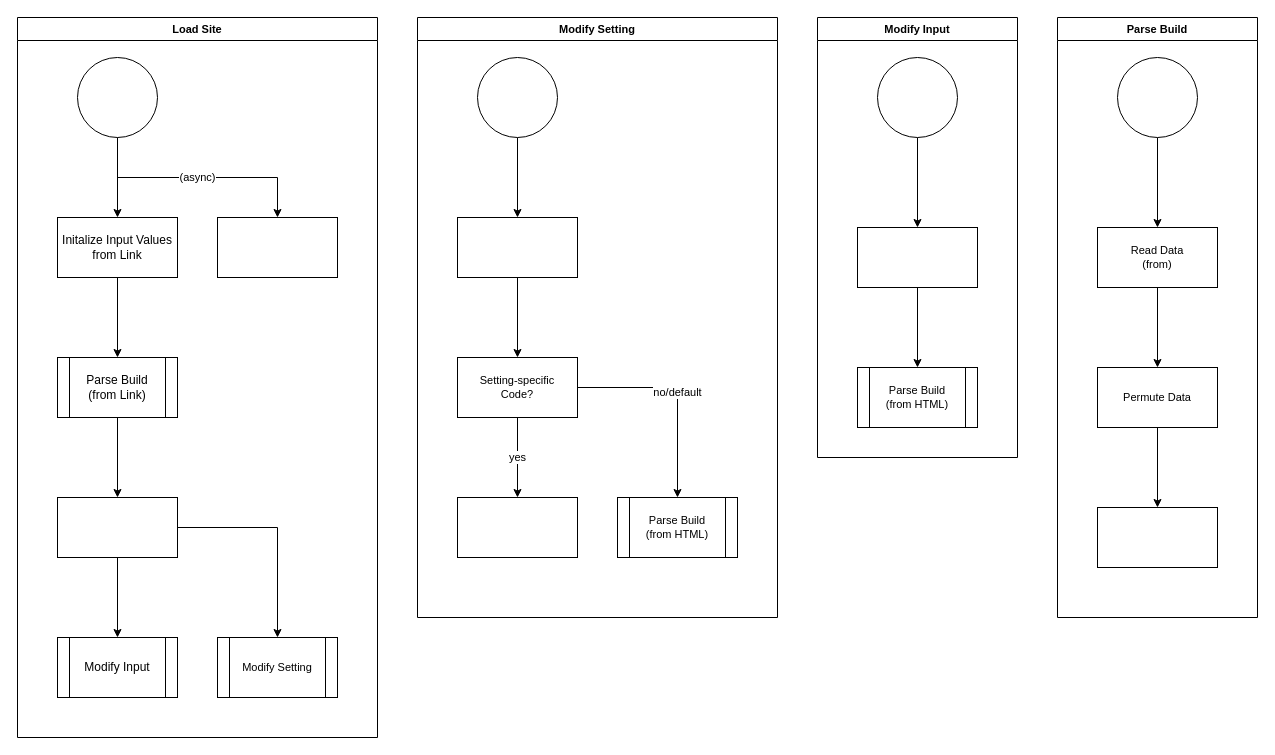
Some shapes in this 1275 by 755 pixel diagram are drawn without their labels. Here are the shapes that lost their labels. From the top down, the centre of each, then its label:
At point 277,247: "Preload Image Assets".
At point 517,247: "Modify localStorage for Value".
At point 917,257: "Input Self-Modification".
At point 117,527: "Add Listeners to Inputs".
At point 517,527: "Determined Per-setting".
At point 1157,537: "Write Data".
